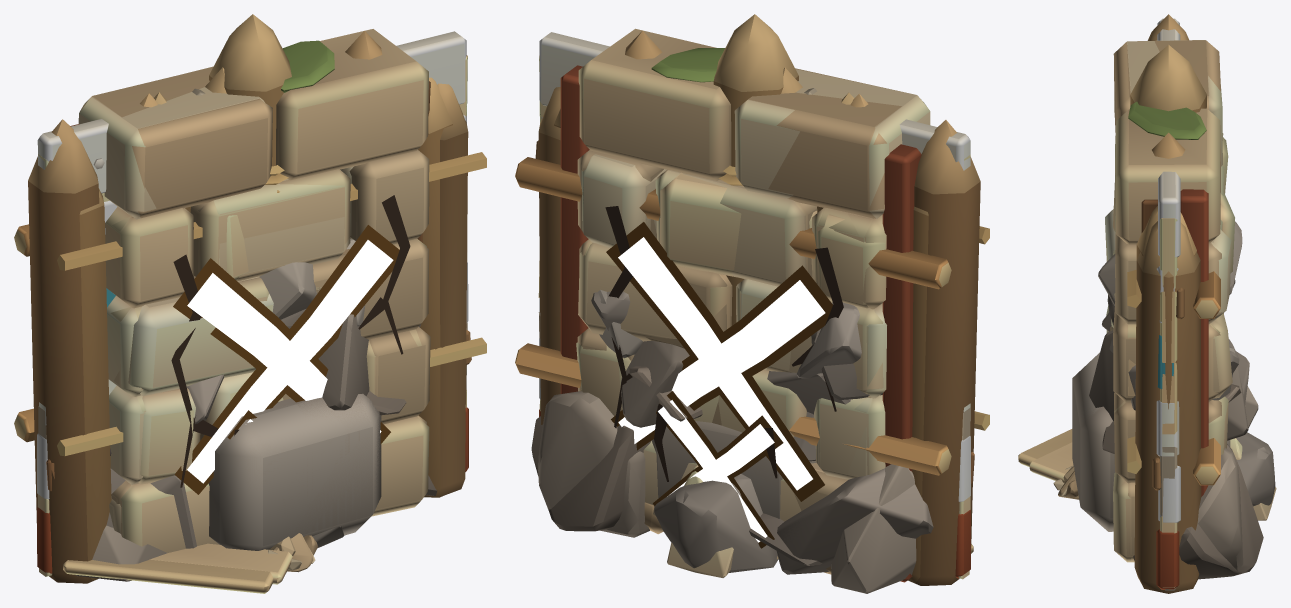
The model's file is walls.glb.
3 views of the same model, side by side, from view 1: azimuth 30°, elevation 25°; view 2: azimuth 150°, elevation 25°; view 3: azimuth 270°, elevation 25° (orthographic). The views are drawn at different scales.
Visible parts, largest first — view 1: wall_stone_a__matte, wall_stone_b__matte, wall_palisade_b__matte, wall_rock_debris, wall_palisade_a__matte, wall_stone_debris, wall_rock_a__matte, wall_stone_weak__emissive, wall_stone_weak__matte, wall_hull_a__matte, wall_palisade_post__matte, wall_hull_debris__remains (+4 smaller); view 2: wall_stone_a__matte, wall_rock_a__matte, wall_stone_b__matte, wall_stone_debris, wall_palisade_b__matte, wall_palisade_a__matte, wall_hull_a__matte, wall_rock_debris, wall_stone_weak__emissive, wall_stone_weak__matte, rubble_pile_rock__matte, wall_rock_weak__matte (+4 smaller); view 3: wall_palisade_a__matte, wall_stone_a__matte, wall_rock_a__matte, wall_hull_a__matte, wall_stone_b__matte, wall_rock_debris, wall_stone_debris, wall_palisade_post__matte, wall_hull_debris, rubble_pile_rock__matte, wall_palisade_b__matte, wall_rock_weak__matte (+5 smaller).
Boxes of the visible parts, bbox=[...] form: wall_stone_a__matte: bbox=[78, 29, 430, 503]; wall_stone_b__matte: bbox=[80, 67, 429, 552]; wall_palisade_b__matte: bbox=[28, 30, 452, 583]; wall_rock_debris: bbox=[106, 262, 436, 550]; wall_palisade_a__matte: bbox=[14, 67, 486, 580]; wall_stone_debris: bbox=[109, 166, 353, 533]; wall_rock_a__matte: bbox=[75, 239, 381, 581]; wall_stone_weak__emissive: bbox=[187, 240, 393, 483]; wall_stone_weak__matte: bbox=[149, 195, 410, 494]; wall_hull_a__matte: bbox=[37, 31, 468, 573]; wall_palisade_post__matte: bbox=[209, 14, 291, 192]; wall_hull_debris__remains: bbox=[63, 559, 273, 593]; wall_stone_a__matte: bbox=[577, 28, 930, 510]; wall_rock_a__matte: bbox=[538, 290, 916, 593]; wall_stone_b__matte: bbox=[579, 68, 901, 521]; wall_stone_debris: bbox=[576, 154, 885, 515]; wall_palisade_b__matte: bbox=[554, 30, 980, 585]; wall_palisade_a__matte: bbox=[515, 67, 989, 583]; wall_hull_a__matte: bbox=[539, 32, 970, 582]; wall_rock_debris: bbox=[531, 294, 933, 574]; wall_stone_weak__emissive: bbox=[618, 237, 825, 490]; wall_stone_weak__matte: bbox=[579, 158, 867, 501]; rubble_pile_rock__matte: bbox=[654, 474, 822, 572]; wall_rock_weak__matte: bbox=[571, 291, 913, 574]; wall_palisade_a__matte: bbox=[1127, 221, 1220, 593]; wall_stone_a__matte: bbox=[1114, 40, 1222, 561]; wall_rock_a__matte: bbox=[1072, 280, 1258, 572]; wall_hull_a__matte: bbox=[1156, 18, 1208, 589]; wall_stone_b__matte: bbox=[1113, 40, 1224, 562]; wall_rock_debris: bbox=[1076, 221, 1263, 579]; wall_stone_debris: bbox=[1105, 137, 1234, 454]; wall_palisade_post__matte: bbox=[1130, 44, 1206, 112]; wall_hull_debris: bbox=[1160, 218, 1177, 587]; rubble_pile_rock__matte: bbox=[1236, 432, 1275, 506]; wall_palisade_b__matte: bbox=[1134, 14, 1196, 578]; wall_rock_weak__matte: bbox=[1098, 270, 1262, 574].
Size of the model in its own units: 2.55 by 2.95 by 1.48.
